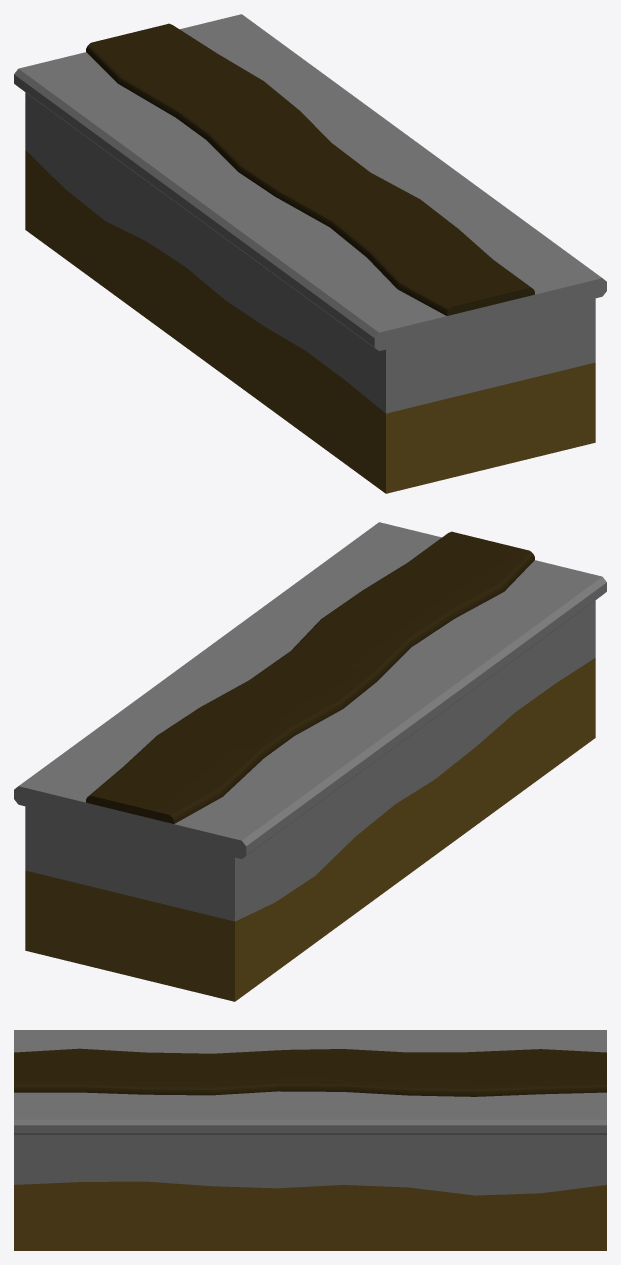
File: floor_dirt.fbx
3 renders of one model, top to bottom at view 1: azimuth 30°, elevation 25°; view 2: azimuth 150°, elevation 25°; view 3: azimuth 270°, elevation 25°, orthographic. The views are drawn at different scales.
Visible parts, largest first — view 1: floor_clean, floor_dirt4, floor_dirt5, floor_dirt2, floor_dirt3, floor_dirt1, floor_dirt9, floor_dirt6, floor_dirt7, floor_dirt8; view 2: floor_clean, floor_dirt9, floor_dirt4, floor_dirt3, floor_dirt1, floor_dirt2, floor_dirt6, floor_dirt5, floor_dirt7, floor_dirt8; view 3: floor_clean, floor_dirt4, floor_dirt2, floor_dirt3, floor_dirt9, floor_dirt1, floor_dirt6, floor_dirt5, floor_dirt7, floor_dirt8.
Boxes of the visible parts, <box> form: floor_clean: <box>14,14,606,493</box>; floor_dirt4: <box>117,52,262,117</box>; floor_dirt5: <box>397,258,534,315</box>; floor_dirt2: <box>275,171,418,226</box>; floor_dirt3: <box>206,109,330,170</box>; floor_dirt1: <box>366,227,492,288</box>; floor_dirt9: <box>86,23,215,82</box>; floor_dirt6: <box>329,198,457,256</box>; floor_dirt7: <box>237,141,369,196</box>; floor_dirt8: <box>175,80,299,139</box>; floor_clean: <box>14,522,606,1001</box>; floor_dirt9: <box>86,765,222,823</box>; floor_dirt4: <box>124,734,263,796</box>; floor_dirt3: <box>201,679,343,735</box>; floor_dirt1: <box>364,561,504,618</box>; floor_dirt2: <box>291,617,411,682</box>; floor_dirt6: <box>322,589,454,646</box>; floor_dirt5: <box>409,531,534,591</box>; floor_dirt7: <box>250,649,375,708</box>; floor_dirt8: <box>158,706,294,758</box>; floor_clean: <box>14,1030,606,1250</box>; floor_dirt4: <box>460,1049,540,1096</box>; floor_dirt2: <box>211,1050,285,1095</box>; floor_dirt3: <box>343,1049,410,1095</box>; floor_dirt9: <box>540,1049,606,1094</box>; floor_dirt1: <box>80,1048,146,1094</box>; floor_dirt6: <box>145,1052,211,1095</box>; floor_dirt5: <box>14,1048,80,1092</box>; floor_dirt7: <box>277,1049,344,1091</box>; floor_dirt8: <box>408,1052,475,1096</box>.
Size of the model in its own units: 505 by 356 by 1360.
